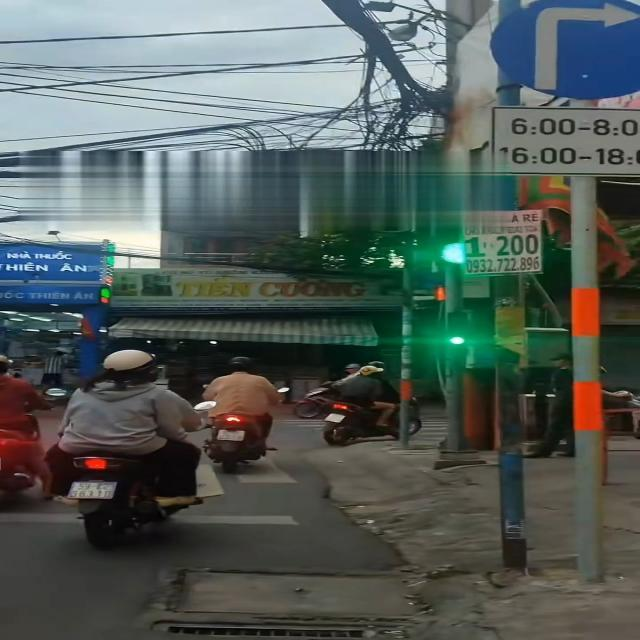301d-cac-xe-chi-duoc-re-phai-2: (491, 0, 640, 104)
